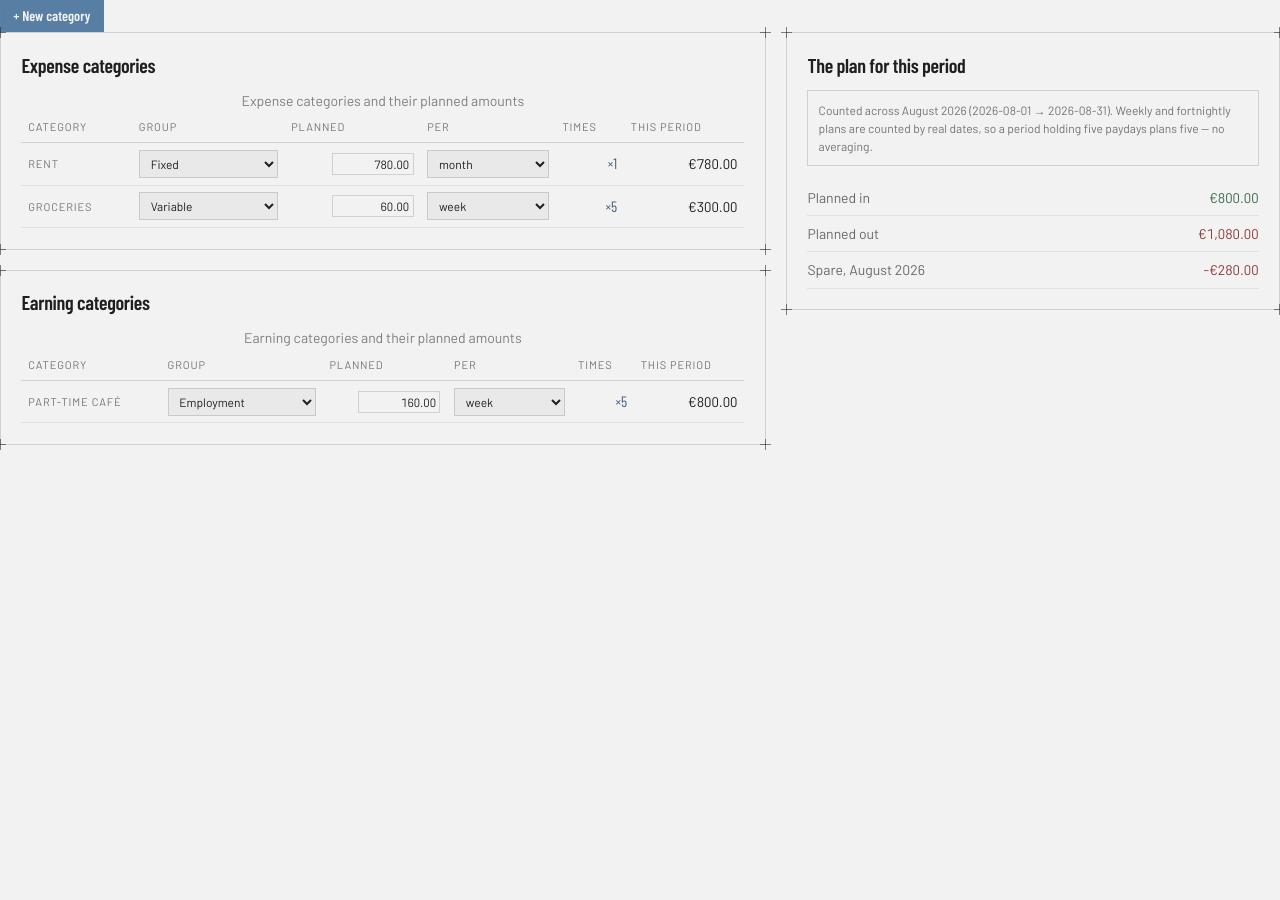
Test: CategoriesPage - creating a category (BR-14) › creates a category and shows it in the table
Click the button "+ New category" at (52, 16), box [0,0,104,32]
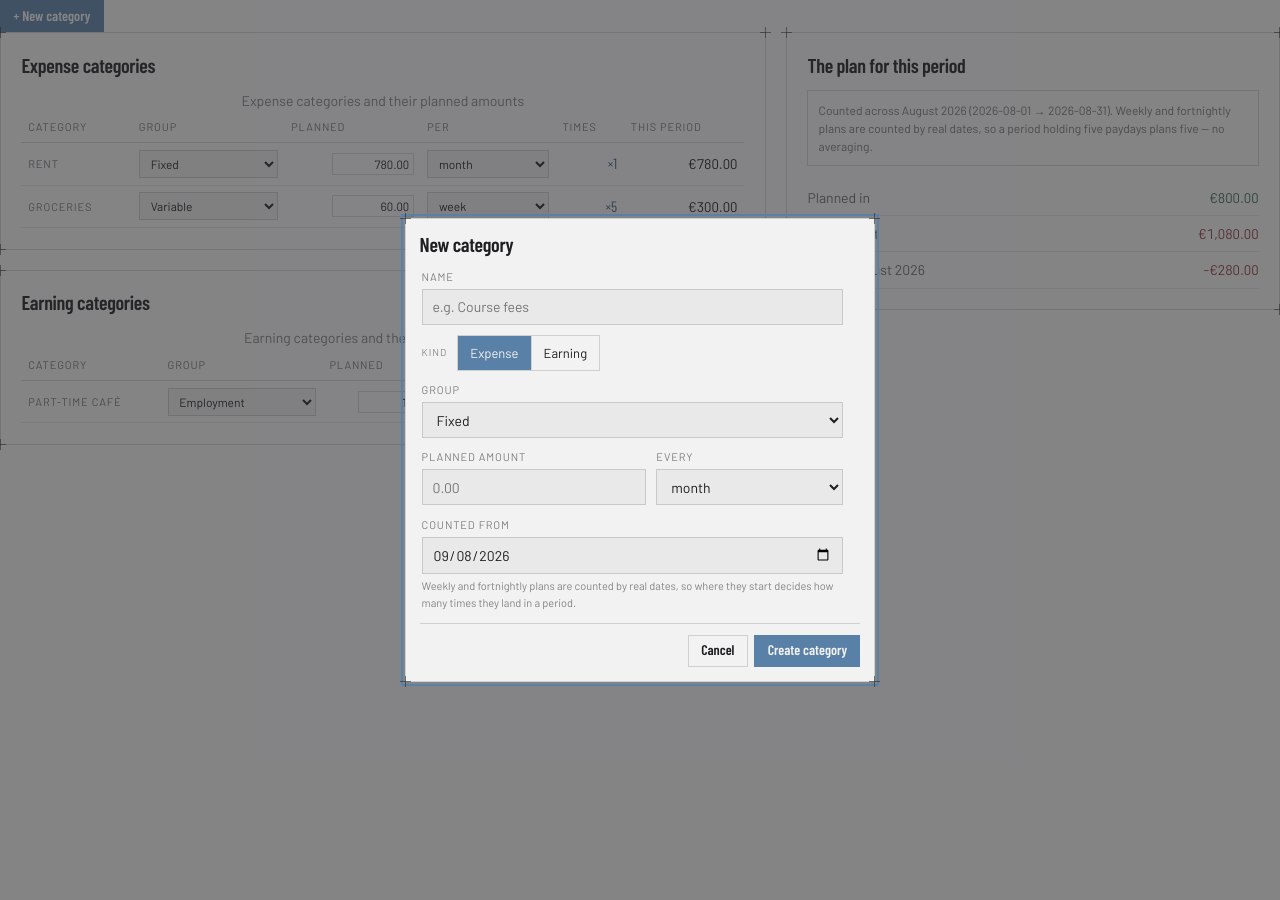
Type "Course fees" into the field labelled "Name" at (632, 307), box [422,289,843,325]
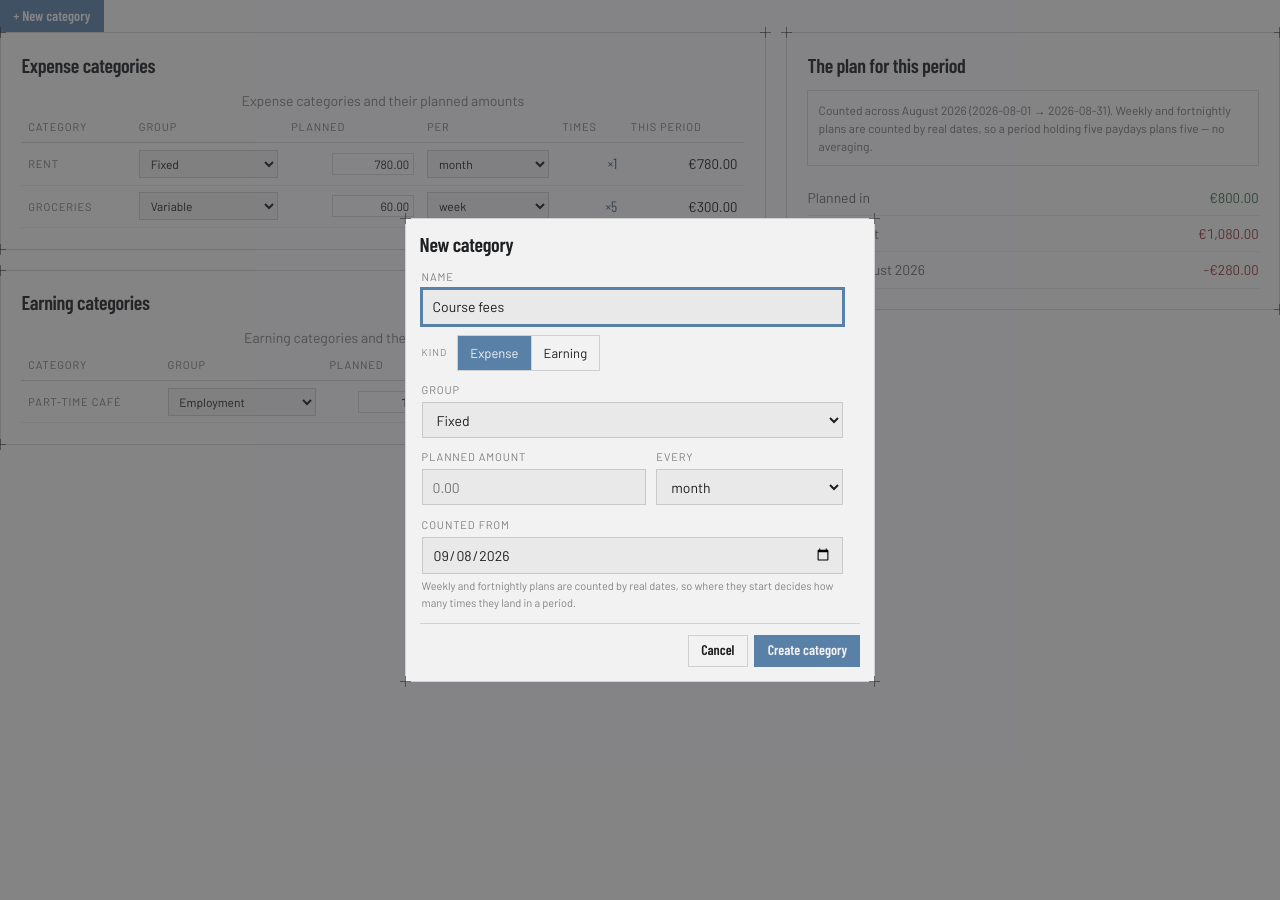
Type "85" into the field labelled "Planned amount" at (534, 487), box [422,469,646,505]
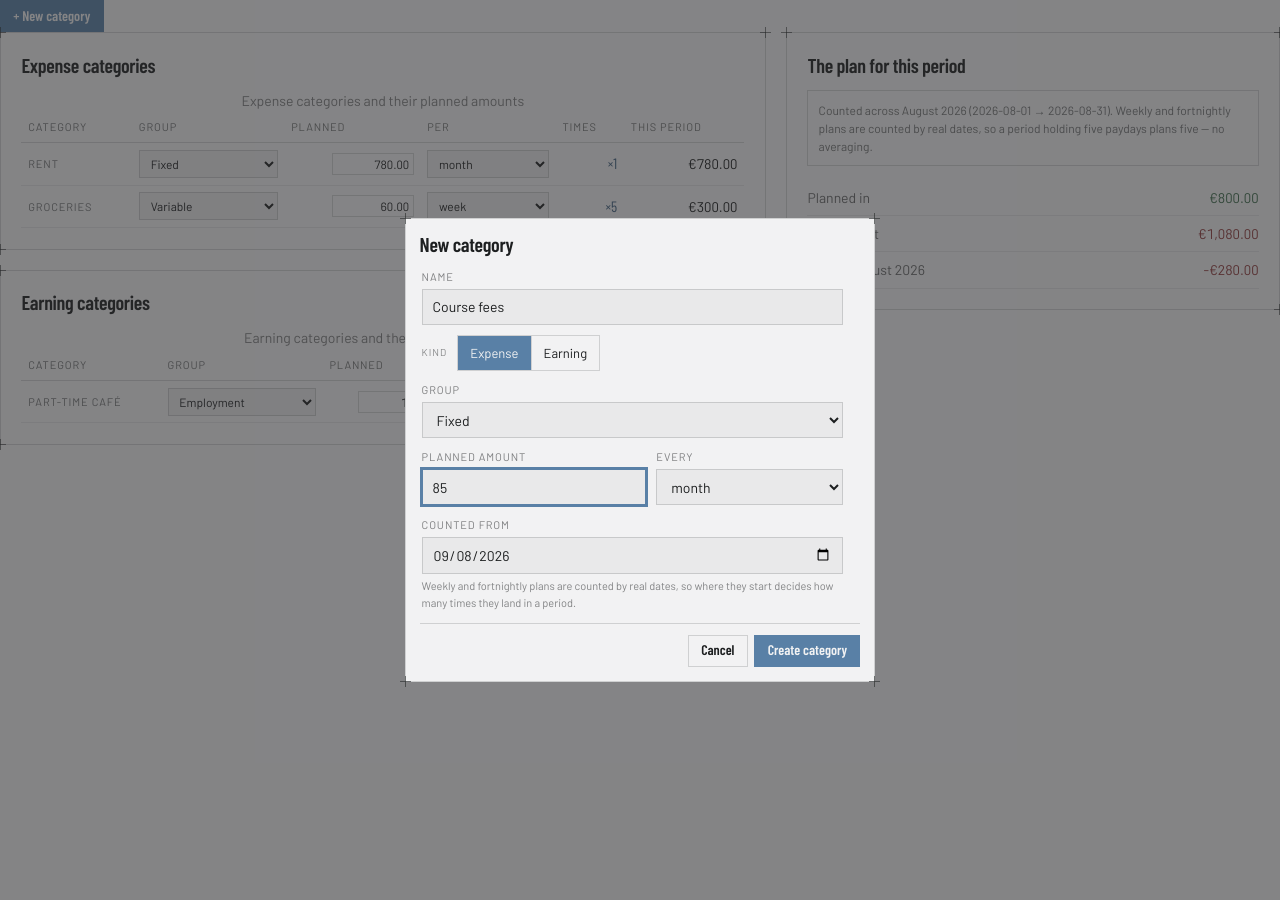
Click the button "Create category" at (807, 651), box [754,635,860,667]
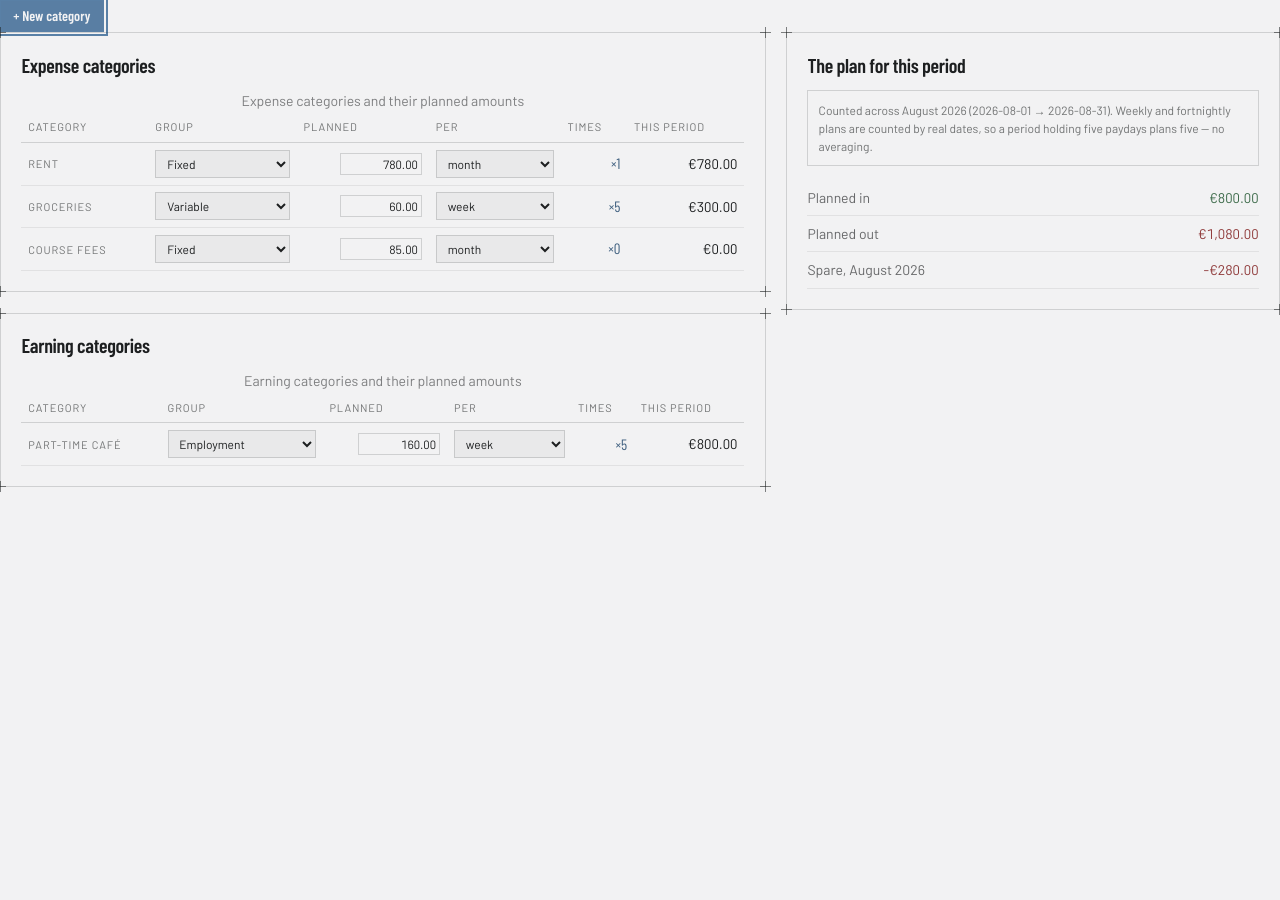
expect the column heading "Course fees" is shown: met, box [21,228,149,270]
